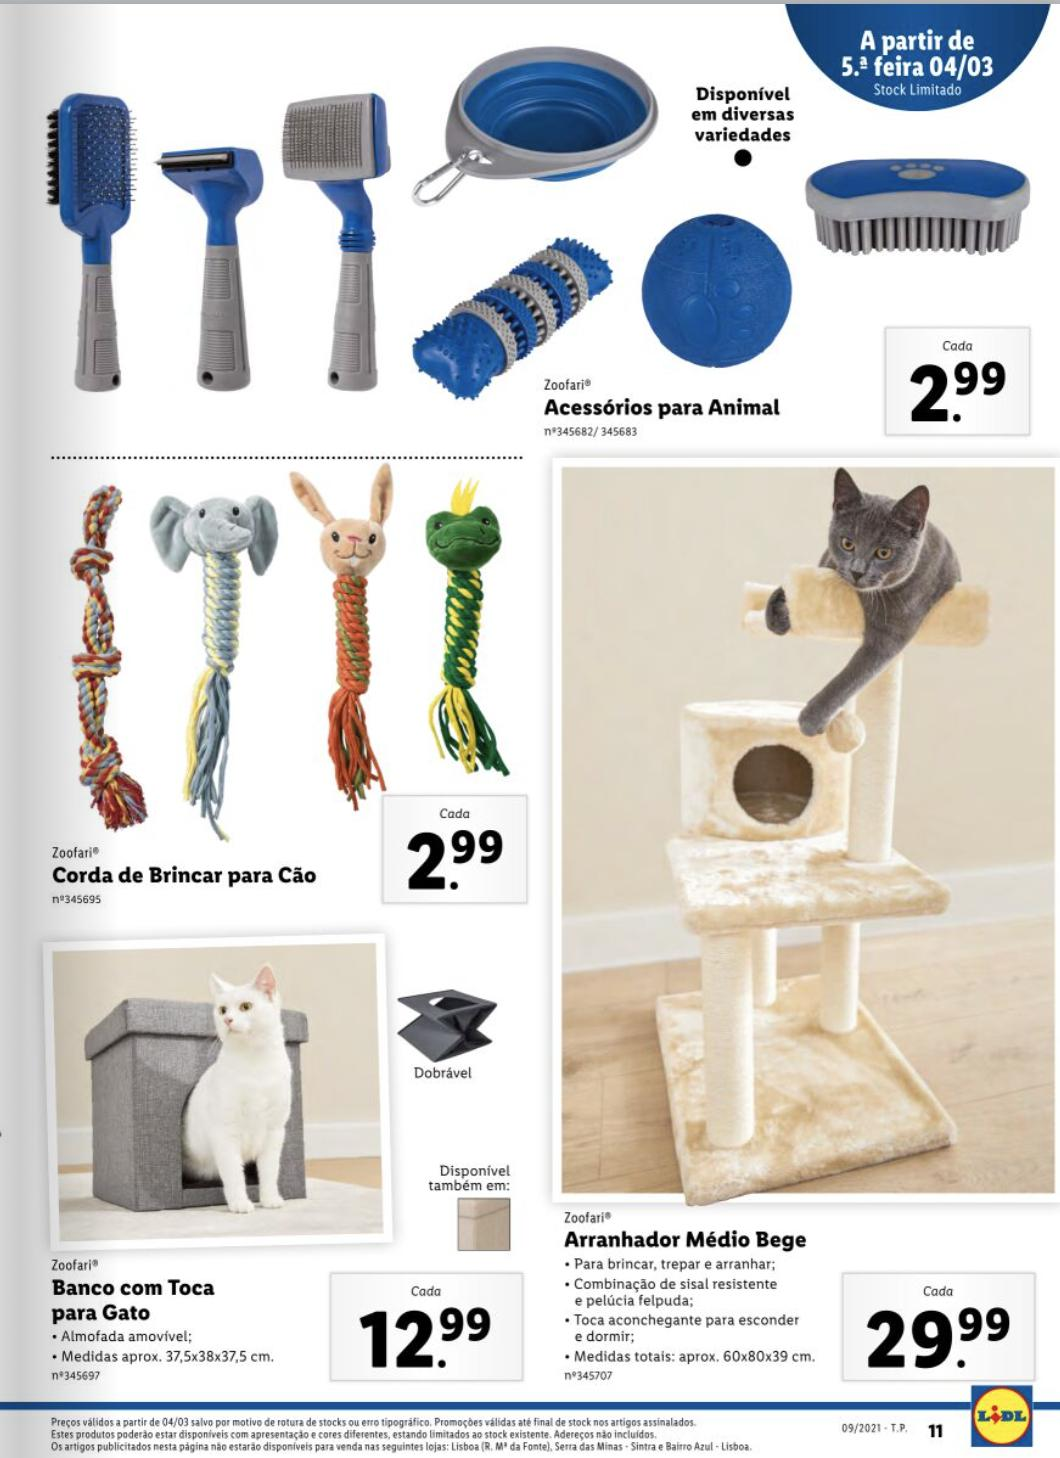name: (42, 1273, 220, 1324), (50, 859, 324, 887), (564, 1226, 813, 1255), (540, 395, 786, 421)
price: (857, 1303, 1019, 1379), (350, 1303, 497, 1375), (906, 357, 1020, 430), (400, 823, 510, 899)
product: (552, 468, 1060, 1390), (22, 33, 1059, 452), (28, 466, 528, 933), (26, 937, 540, 1388)
